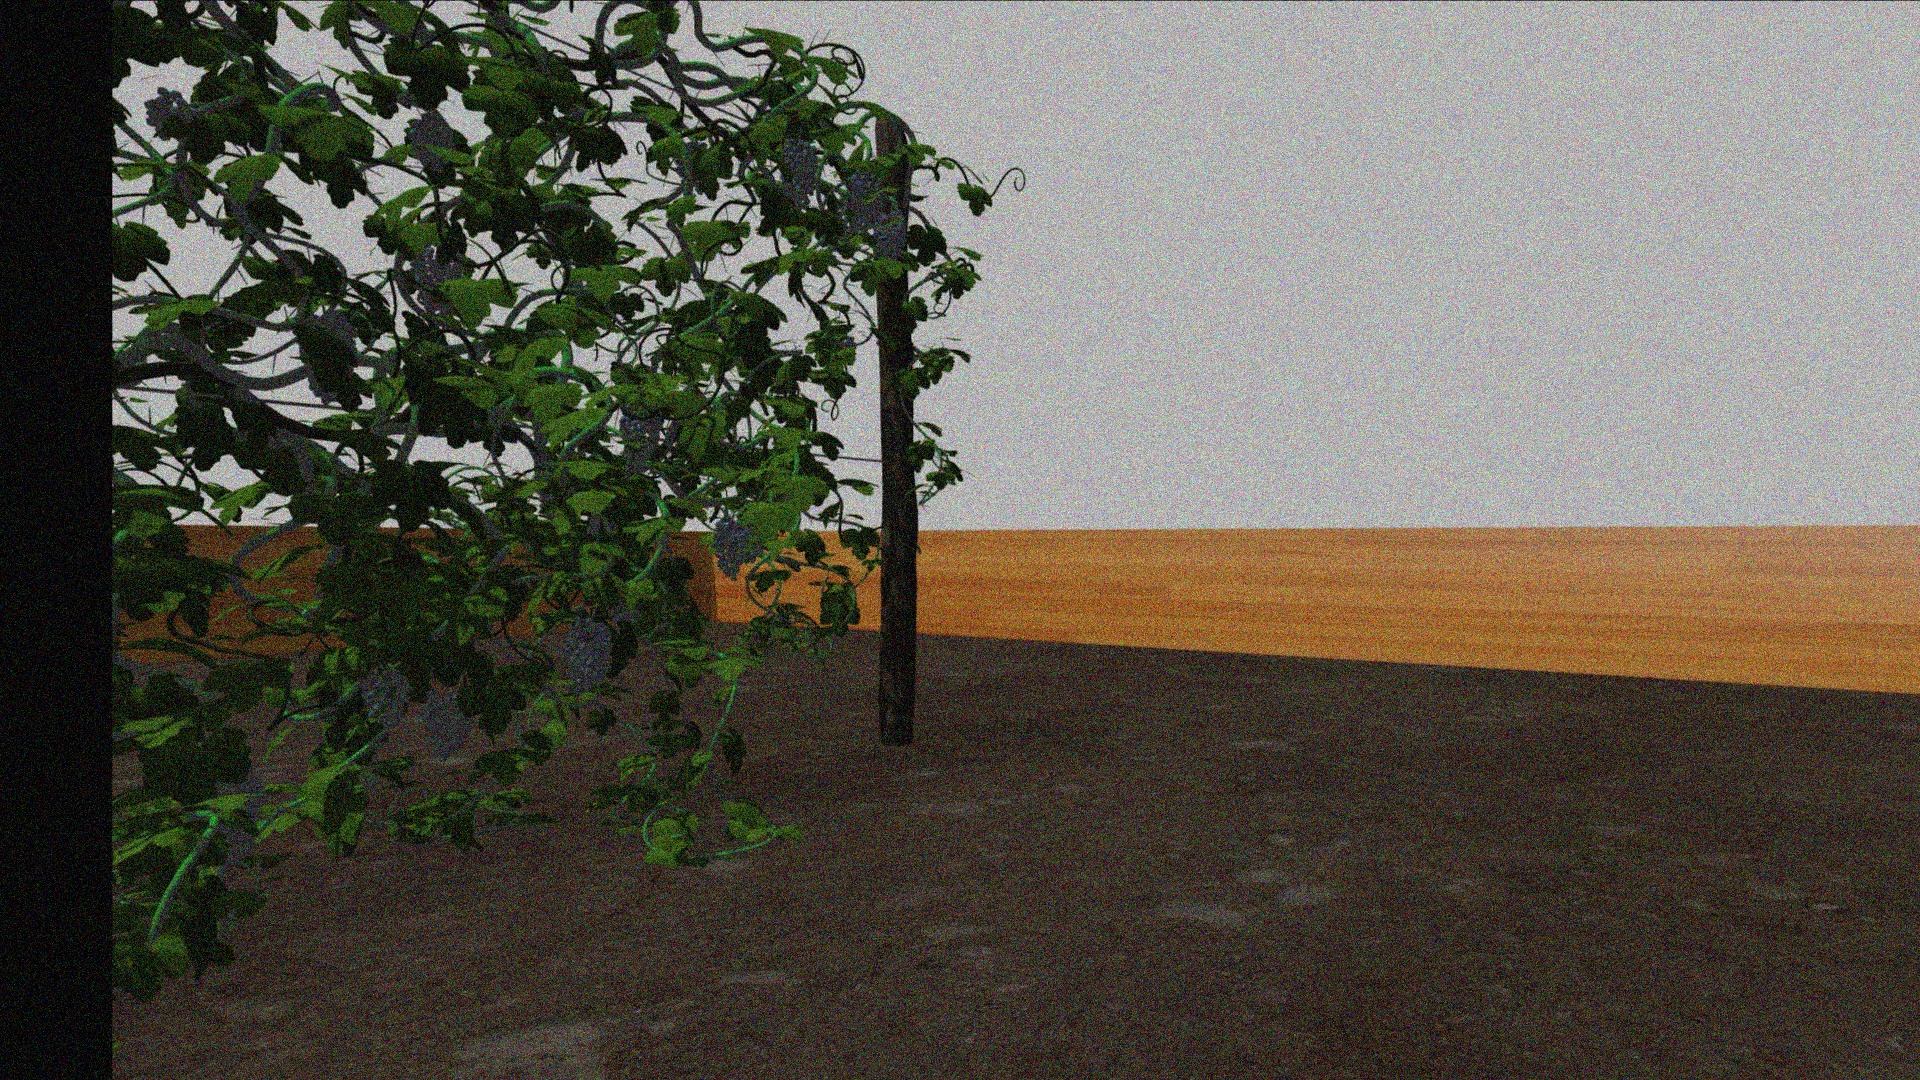grape: (204, 767, 266, 868), (299, 313, 361, 405), (409, 245, 473, 318), (419, 687, 476, 762), (564, 615, 615, 692), (407, 111, 458, 175), (141, 86, 196, 142), (363, 669, 411, 732), (618, 400, 666, 463), (782, 137, 819, 211), (847, 171, 885, 233), (713, 516, 742, 582), (876, 212, 907, 262), (741, 514, 770, 564)
